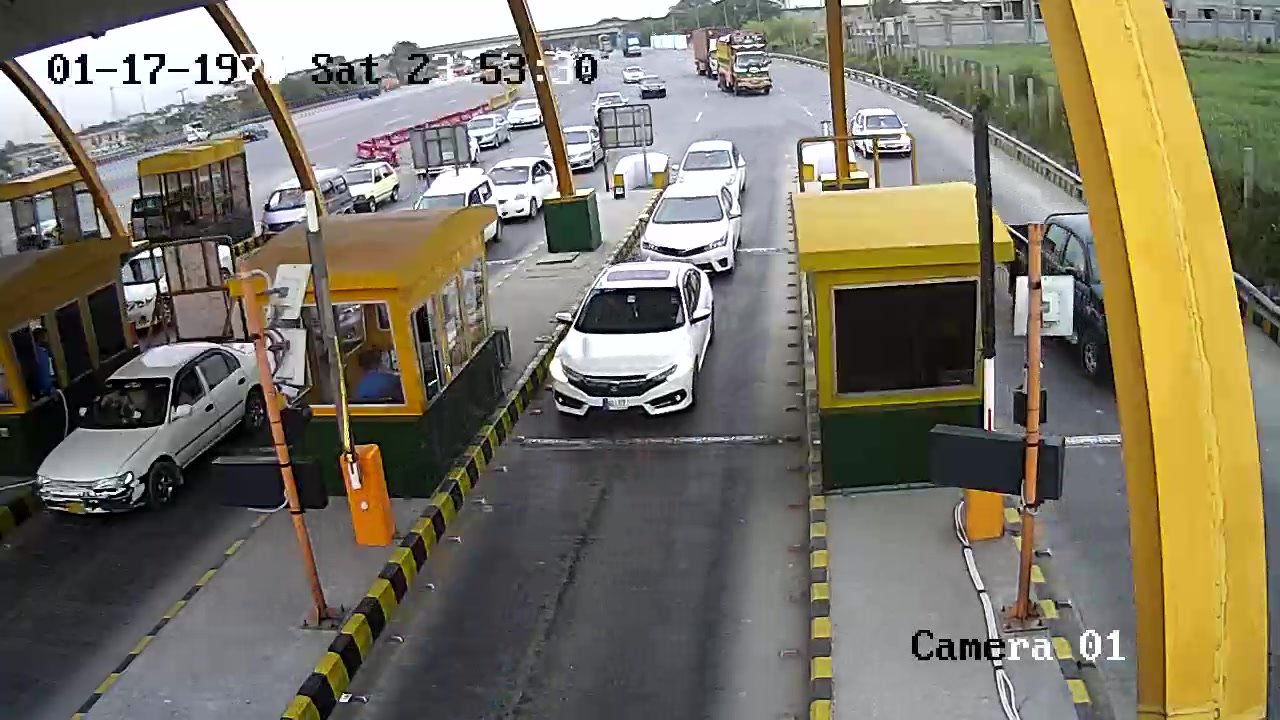F1: (546, 262, 722, 426)
